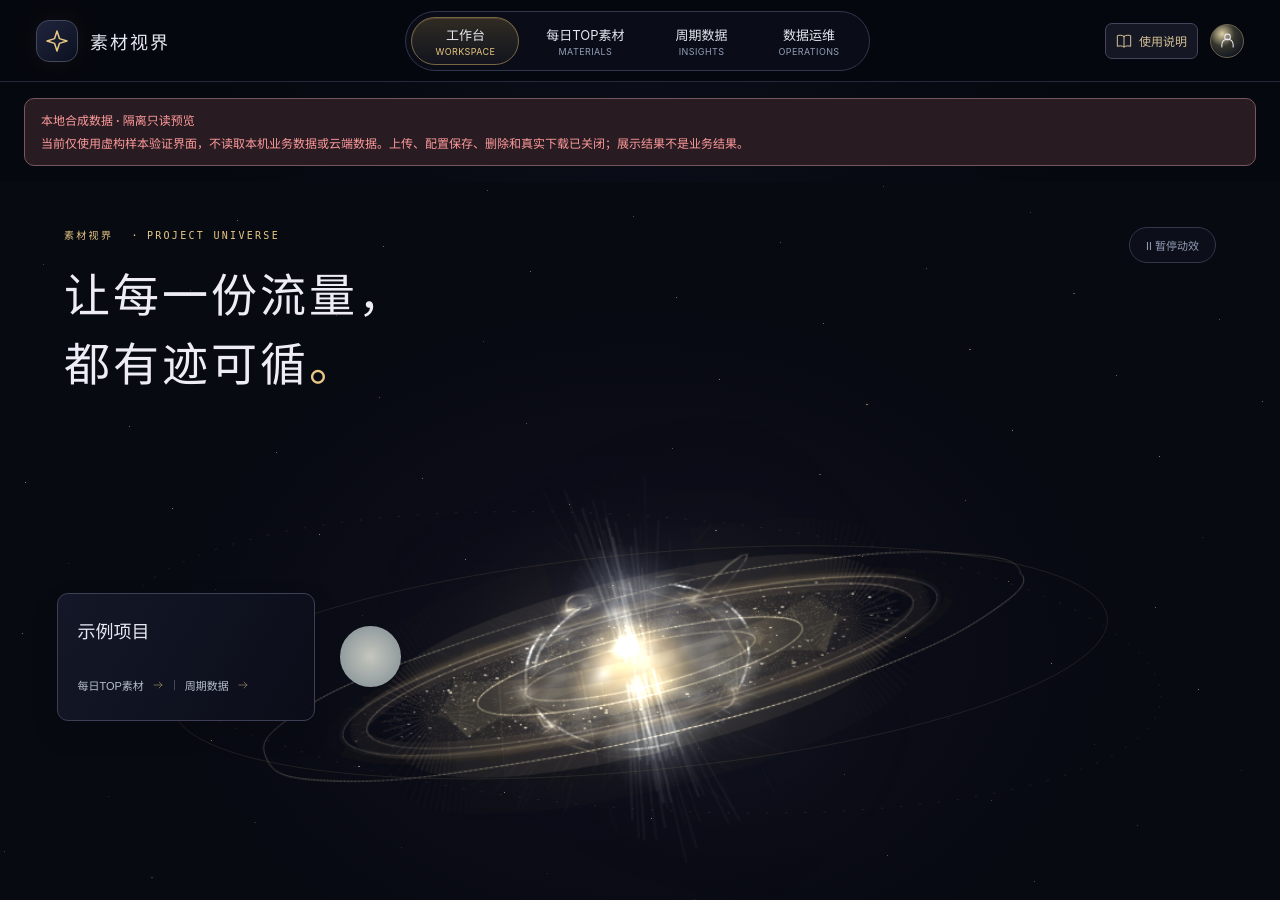
Test: D187 semantic operation groups › labels the isolated synthetic preview without claiming local business data
Check: the message with class "local-preview-notice" shows "本地合成数据 · 隔离只读预览", box [41,113,195,128]
Check: the message with class "local-preview-notice" shows "不读取本机业务数据或云端数据", box [41,136,749,151]
Click the button "数据运维 OPERATIONS" at (809, 40), box [755,16,864,64]
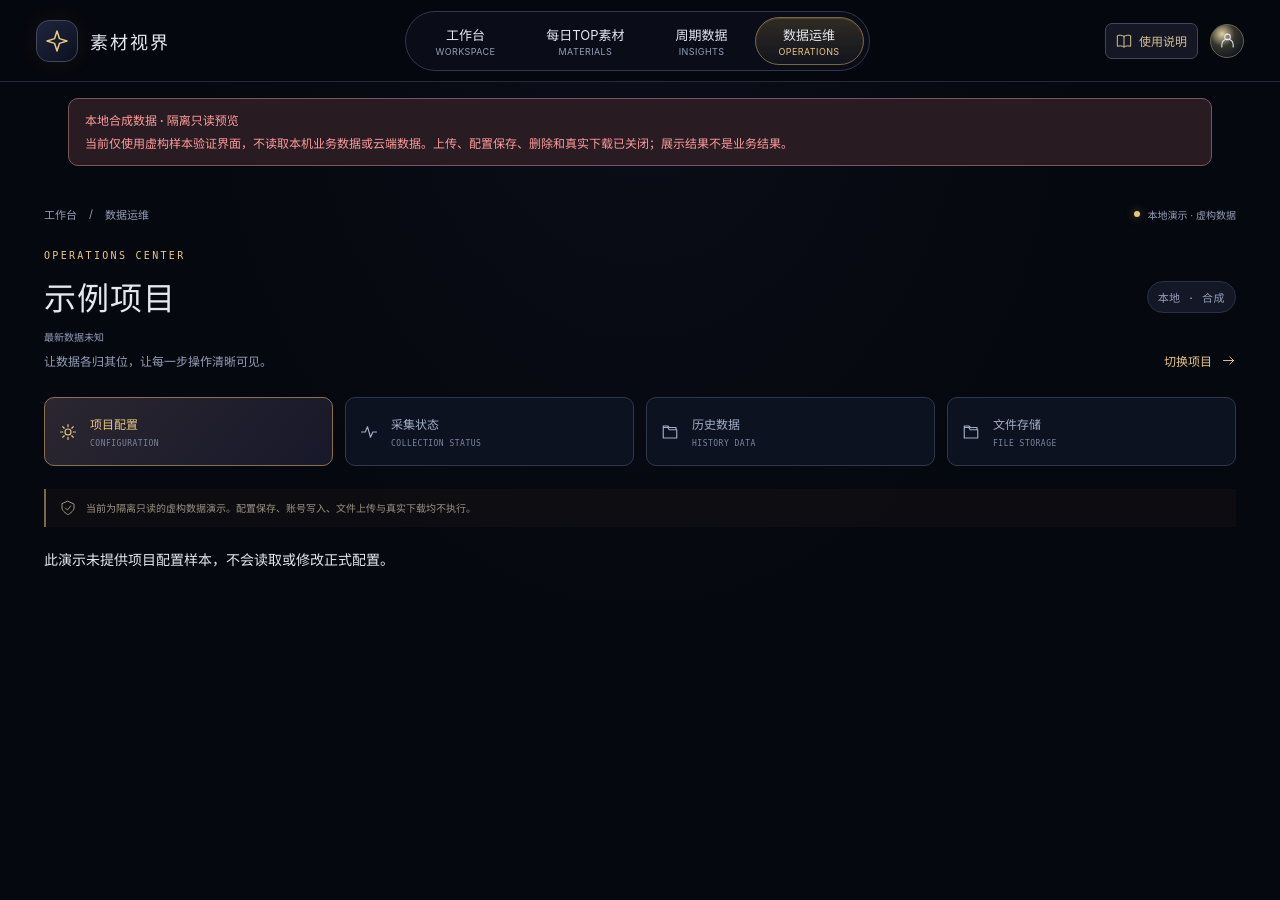
Check: the element showing "当前为隔离只读的虚构数据演示。配置保存、账号写入、文件上传与真实下载均不执行。" is shown, box [44,489,1236,527]
